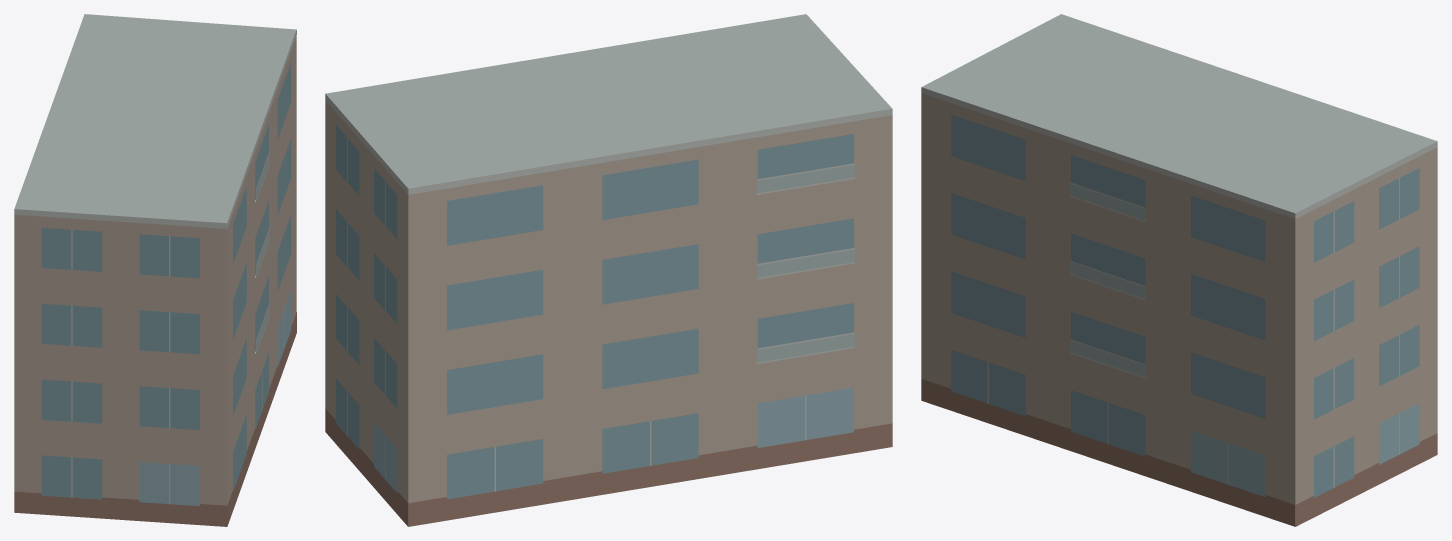
Rendered from survey-upis-32764945.glb.
3 renders of one model, left to right at view 1: azimuth 30°, elevation 25°; view 2: azimuth 150°, elevation 25°; view 3: azimuth 270°, elevation 25°, orthographic. The views are drawn at different scales.
Parts seen in each view (by area): view 1: survey-upis-32764945.tmp; view 2: survey-upis-32764945.tmp; view 3: survey-upis-32764945.tmp.
Part boxes in pixels (box(x1,y1,x2,y2)): survey-upis-32764945.tmp: box(14, 14, 296, 526); survey-upis-32764945.tmp: box(325, 14, 892, 526); survey-upis-32764945.tmp: box(921, 14, 1437, 526).
Size of the model in its own units: 17.95 by 13.15 by 19.64.
